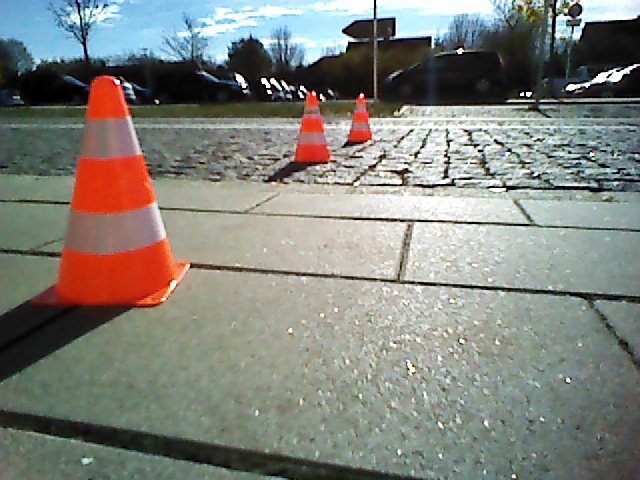orangeconesmall: (58, 76, 174, 304), (296, 95, 330, 162), (347, 94, 373, 142)
